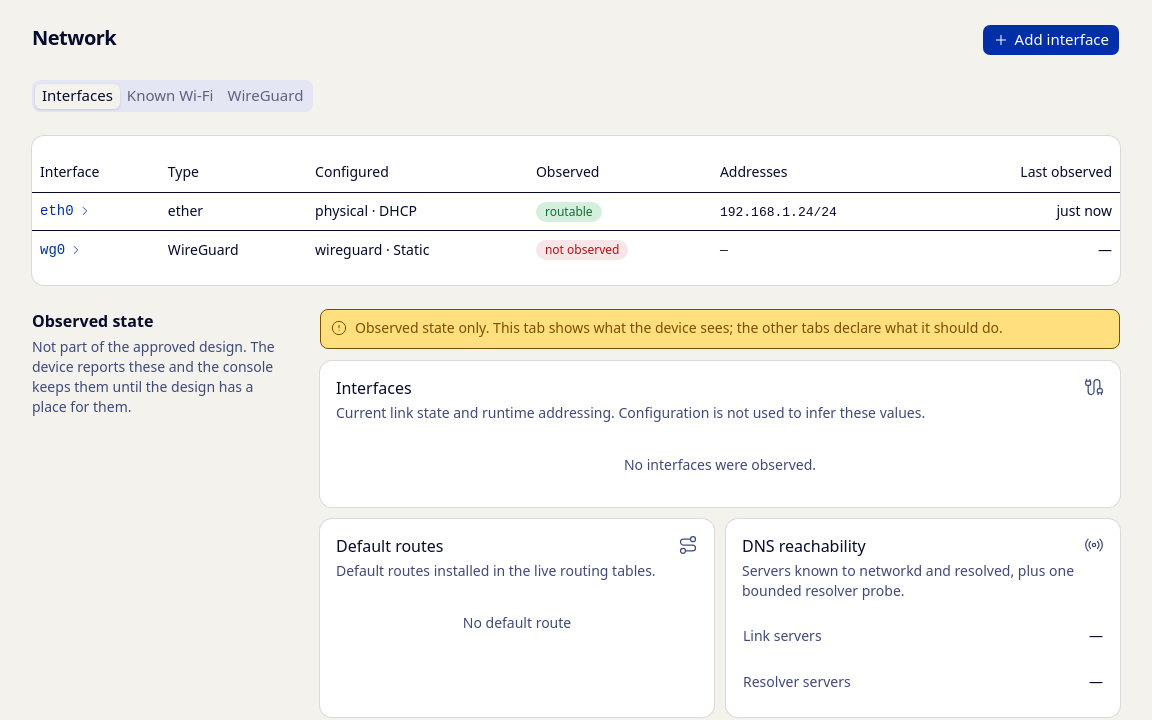
Test: the add-interface dialog › asks only for what a Bridge interface needs
The image size is (1152, 720).
Step 1. Click the button "Add interface" → (1051, 40), box [982,24,1120,56]
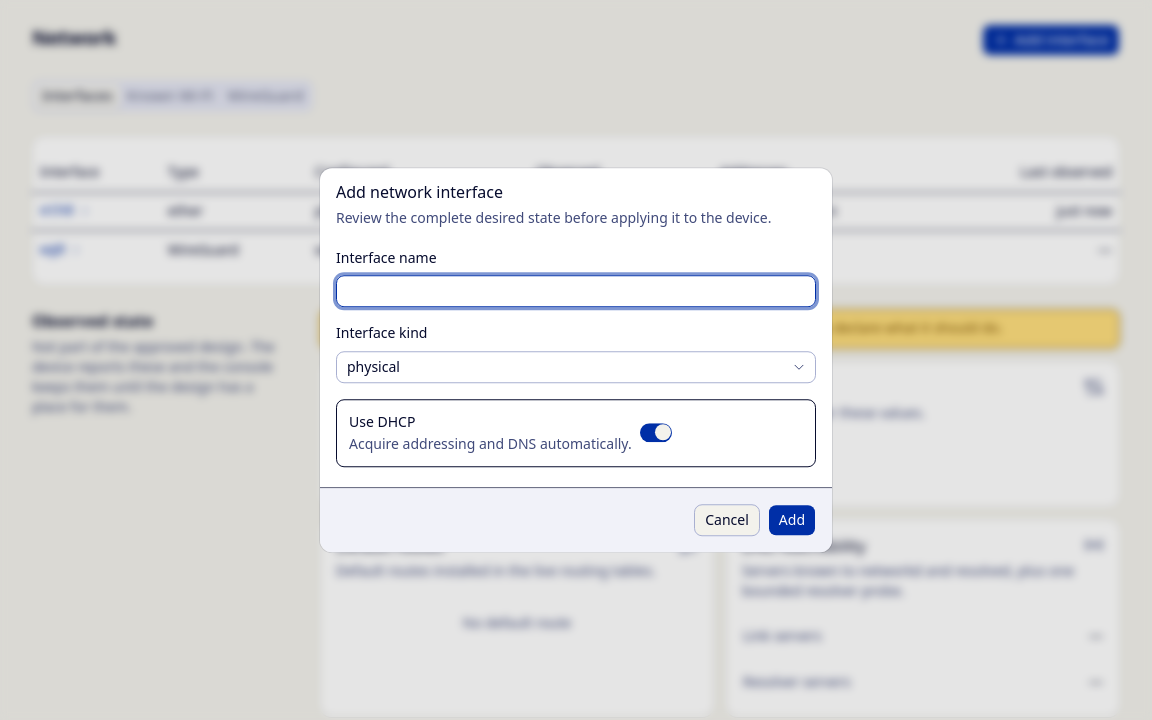
Step 2. Click the dropdown named "Interface kind" → (373, 366), box [336,351,816,383]
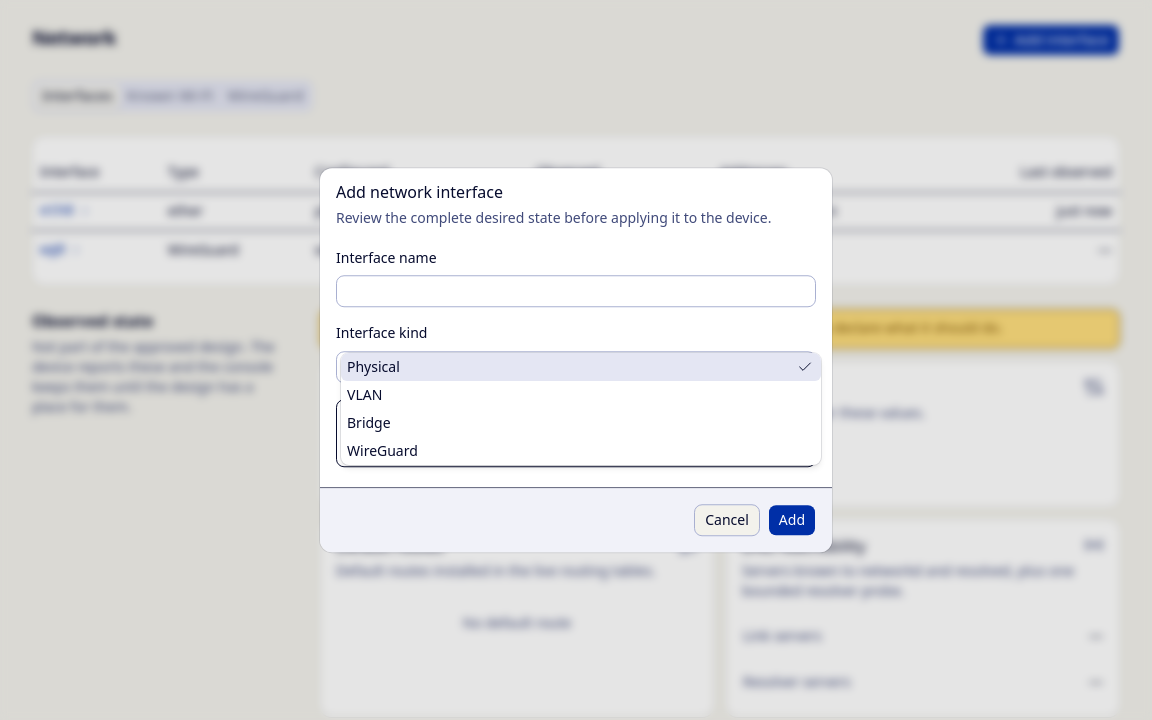
Step 3. Click the option "Bridge" → (369, 422), box [347,413,391,432]
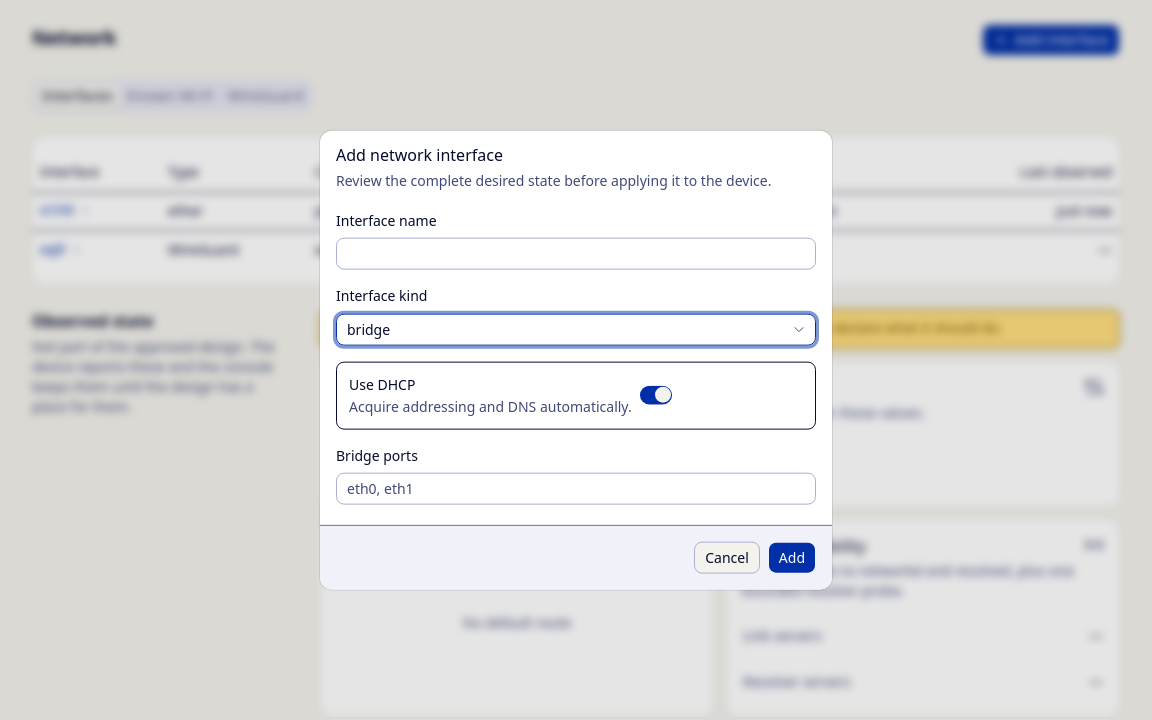
Result: the field labelled "Bridge ports" is shown at [336,472,816,504]
